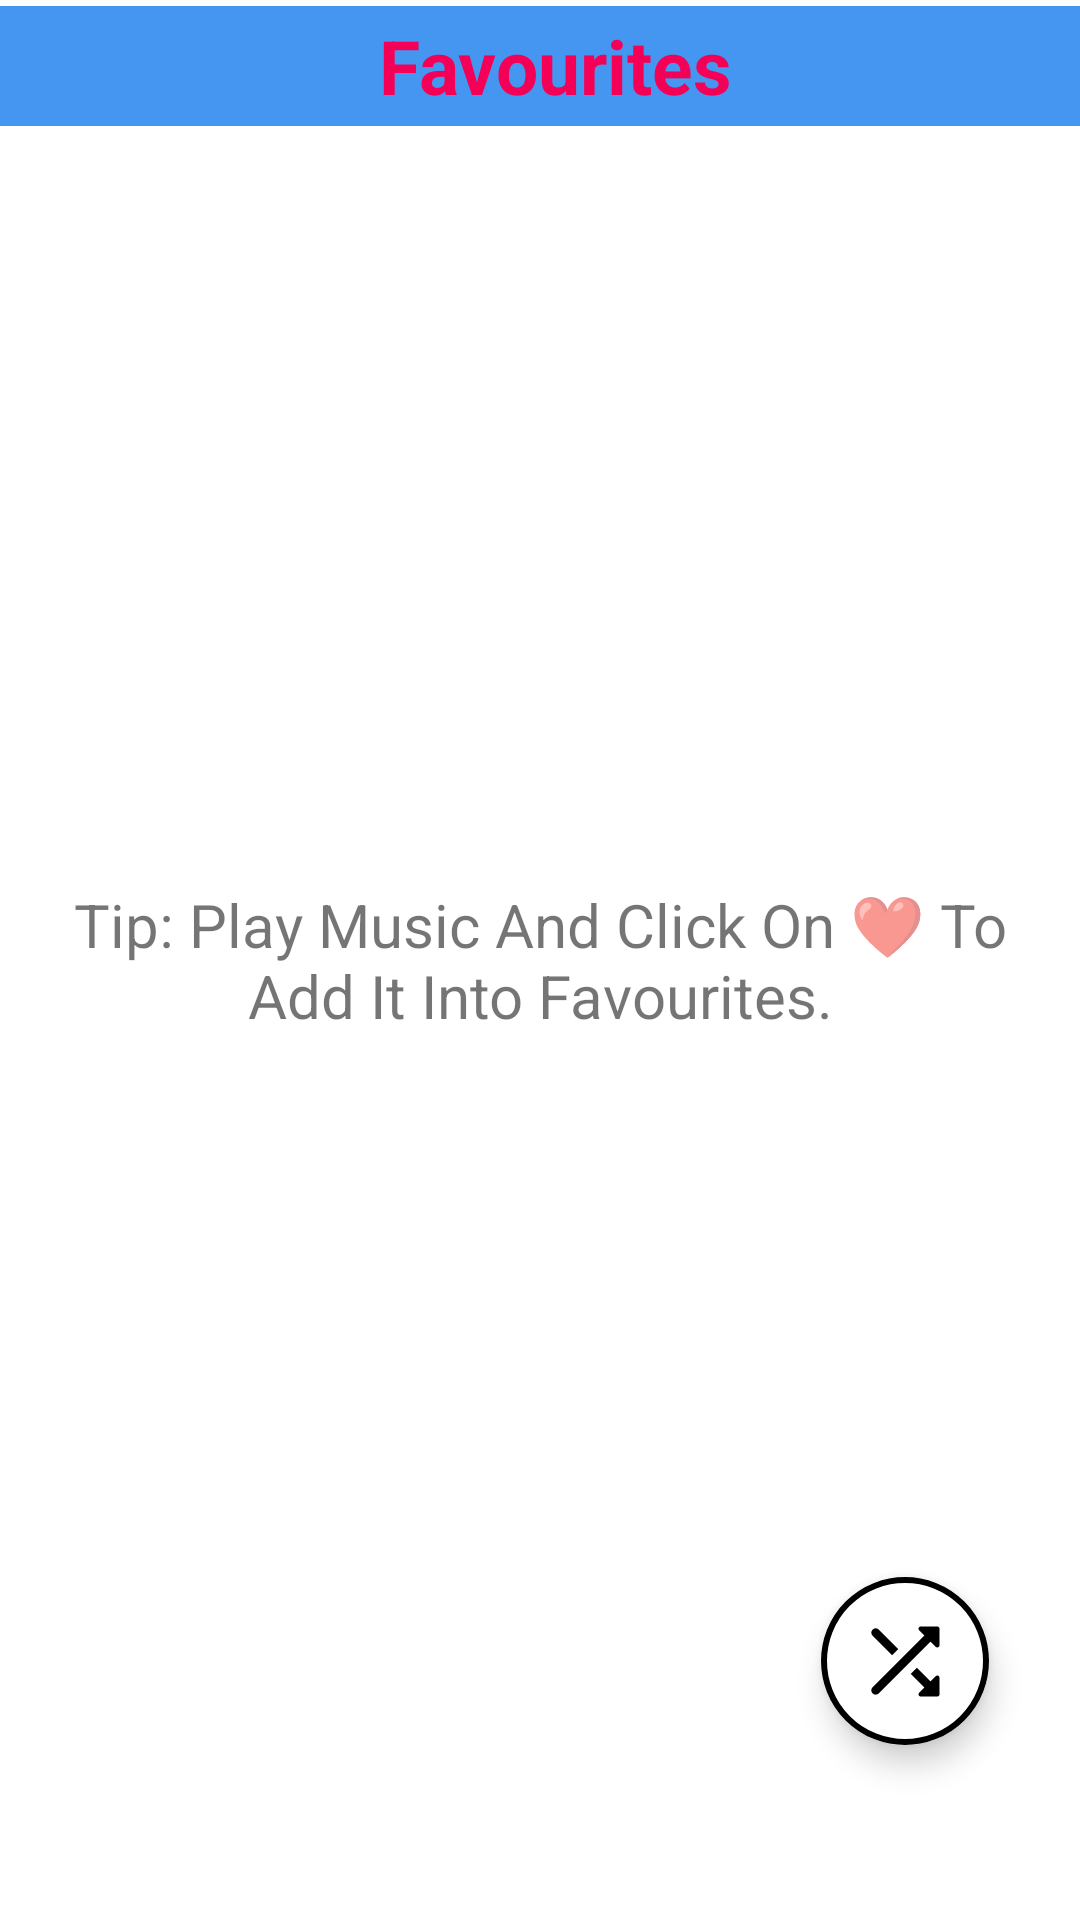

Icons on this 1080px x 1920px Android screen, each with its box as (x1, y1, x2, y2):
shuffle: (821, 1577, 989, 1745)
